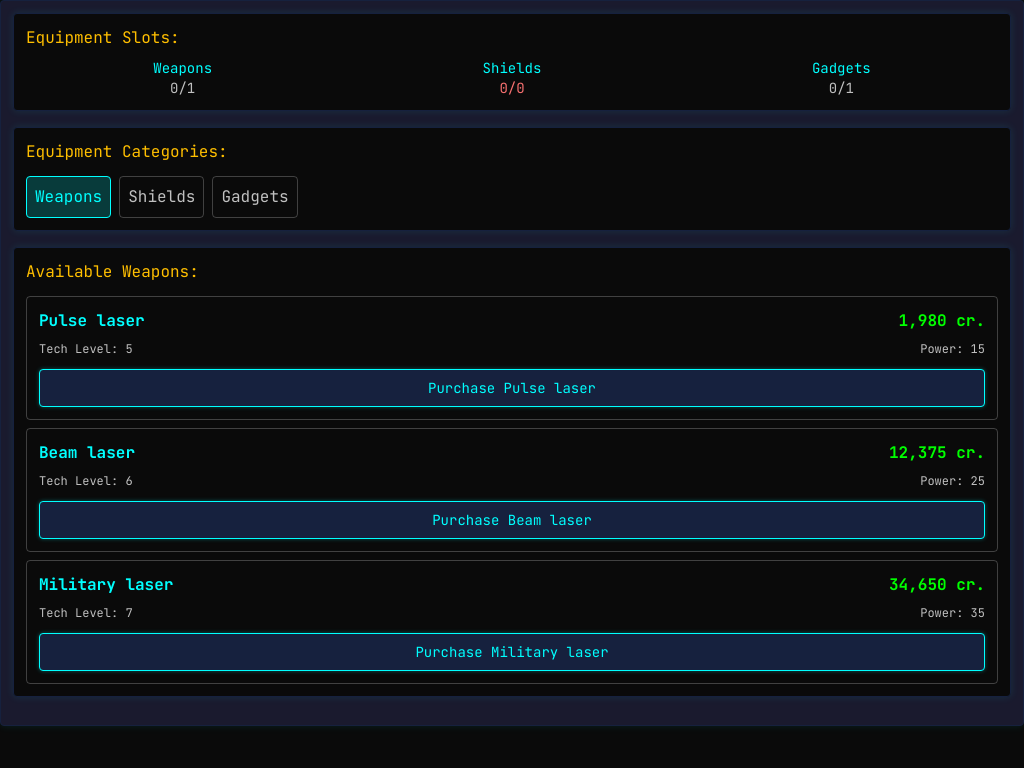
Scenario: BuyEquipmentScreen › should show success message after purchase
Click the button with test id "^purchase-weapons-": {"x": 512, "y": 388} left=39, top=369, right=985, bottom=407
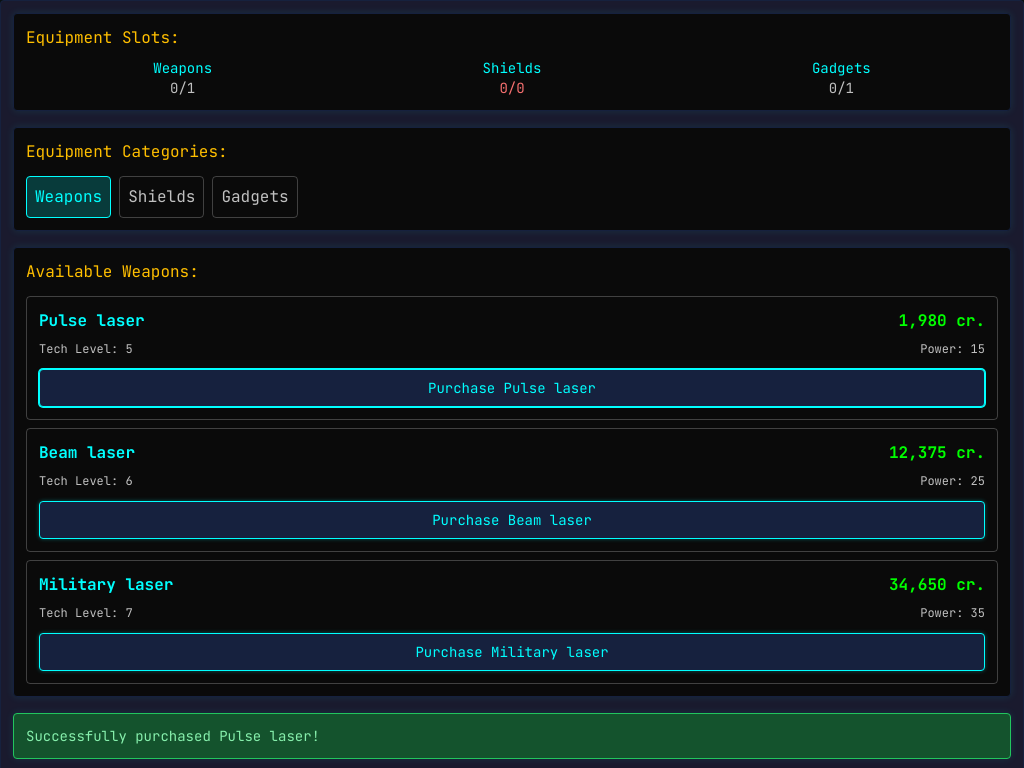
Expected: the text "Successfully purchased Pulse laser!" is shown, left=26, top=727, right=320, bottom=745
